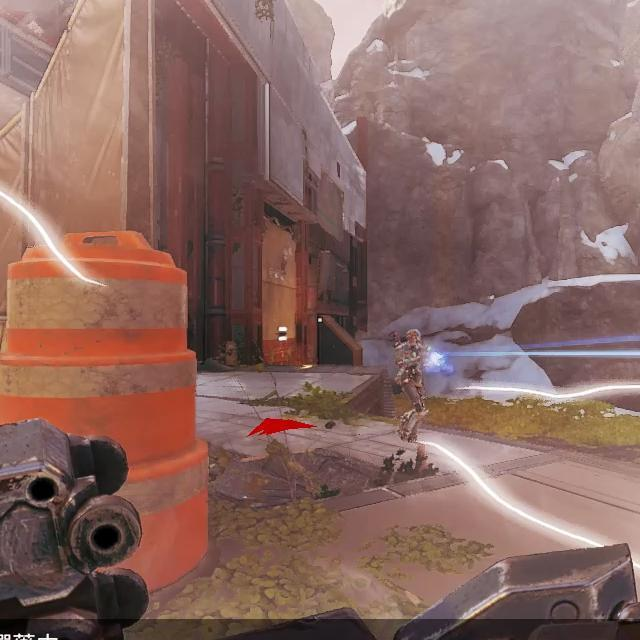avatar: (390, 328, 431, 444)
